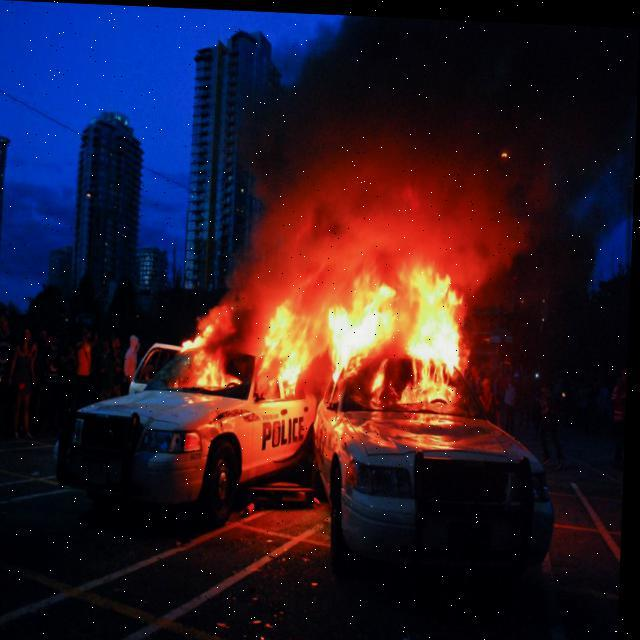Fire: (184, 252, 483, 410)
